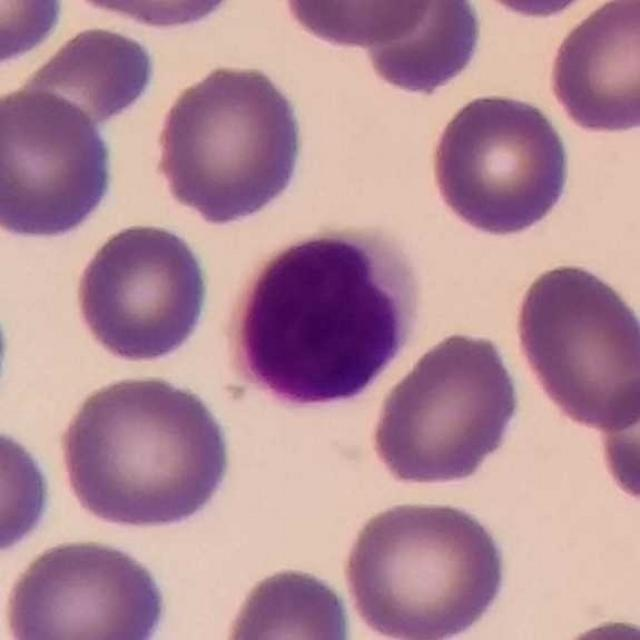Lymphocyte: (226, 212, 434, 410)
RBC: (55, 370, 238, 534), (150, 59, 310, 227), (366, 326, 526, 492), (339, 494, 512, 640), (510, 257, 640, 435), (426, 89, 576, 240), (70, 218, 214, 369), (0, 85, 119, 242), (1, 534, 174, 640), (10, 22, 160, 128), (544, 0, 640, 138), (355, 0, 485, 98), (216, 561, 358, 640), (275, 0, 440, 51), (0, 423, 57, 560), (592, 365, 640, 518), (56, 0, 247, 33), (0, 0, 67, 71), (460, 0, 614, 20), (541, 613, 640, 640)
